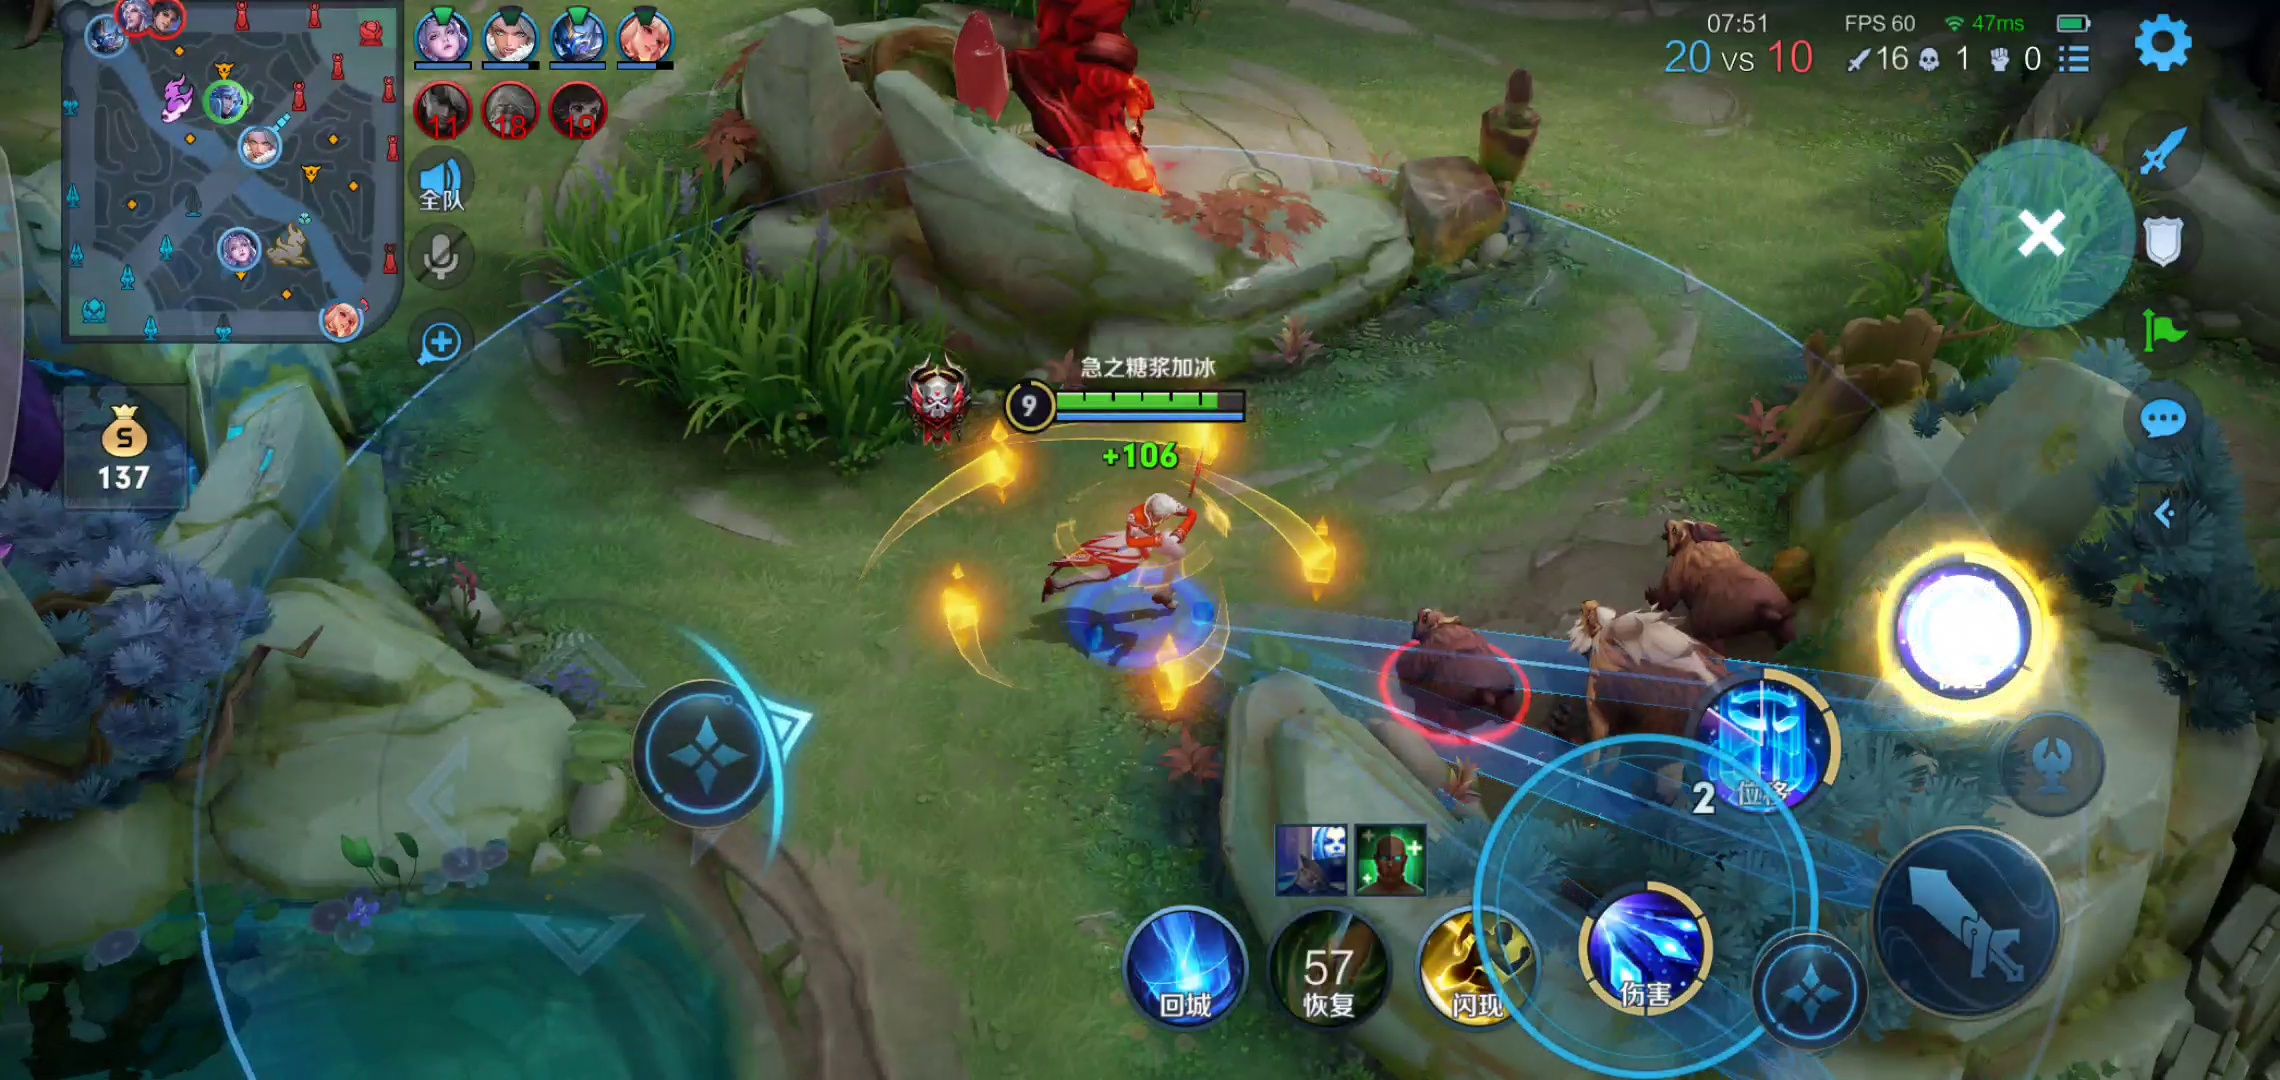buff: (947, 17, 1189, 202)
grass: (515, 183, 926, 485)
hero: (1043, 483, 1232, 658)
wild_monster: (1339, 493, 1850, 810)
